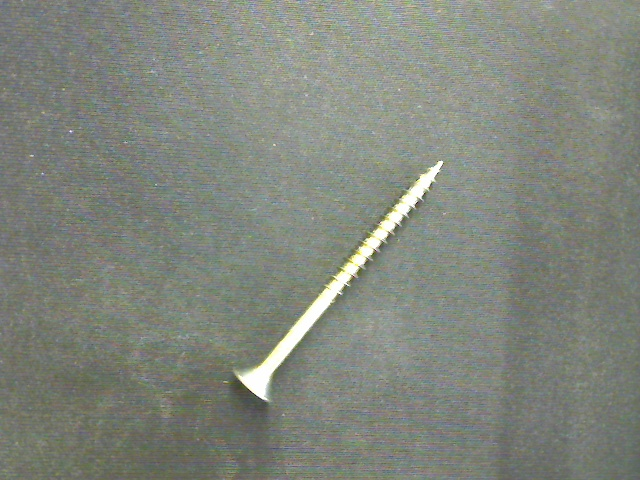screw0: (233, 159, 443, 403)
